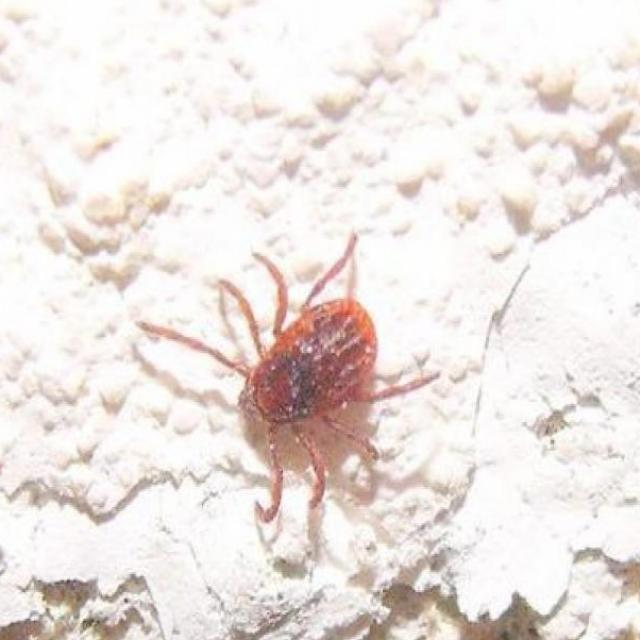Rhipicephalus Sanguineus-F: (135, 232, 438, 562)
